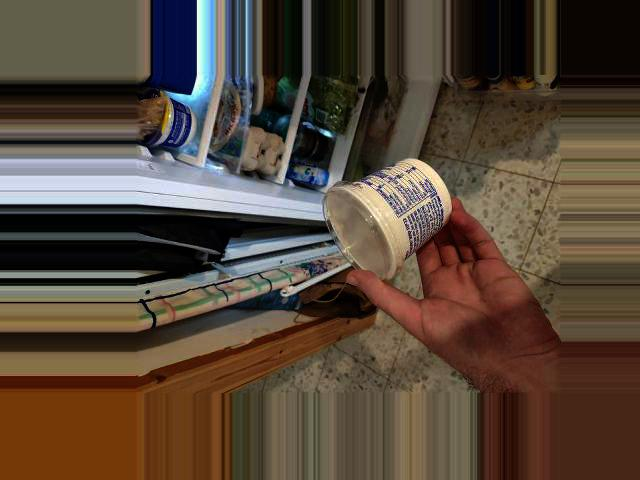cotage: (322, 162, 438, 271)
